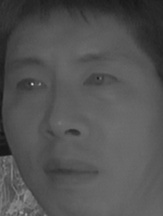eye: (81, 67, 121, 94), (12, 75, 48, 96)
mouth: (38, 154, 100, 188)
